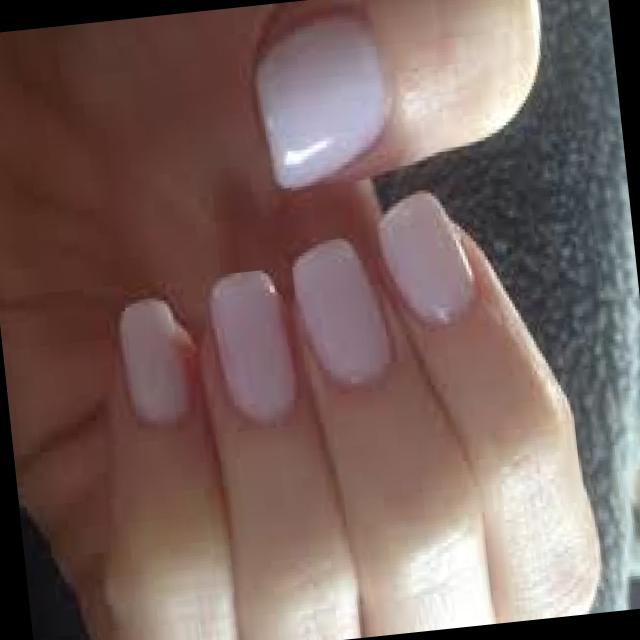Nail: (254, 10, 392, 189), (293, 241, 389, 391), (211, 267, 293, 422), (377, 193, 470, 328), (122, 299, 197, 428)
